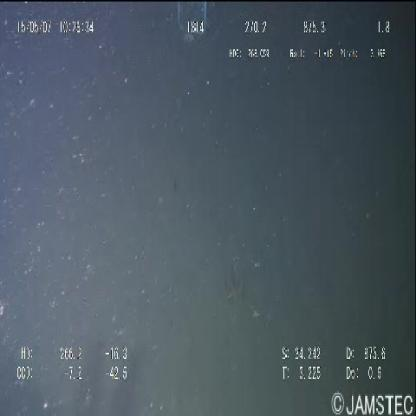Rác: (173, 2, 211, 48)
